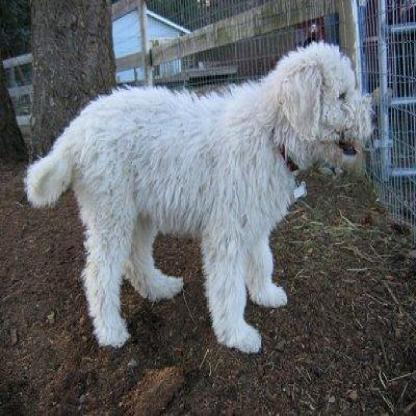komondor: (20, 38, 376, 354)
